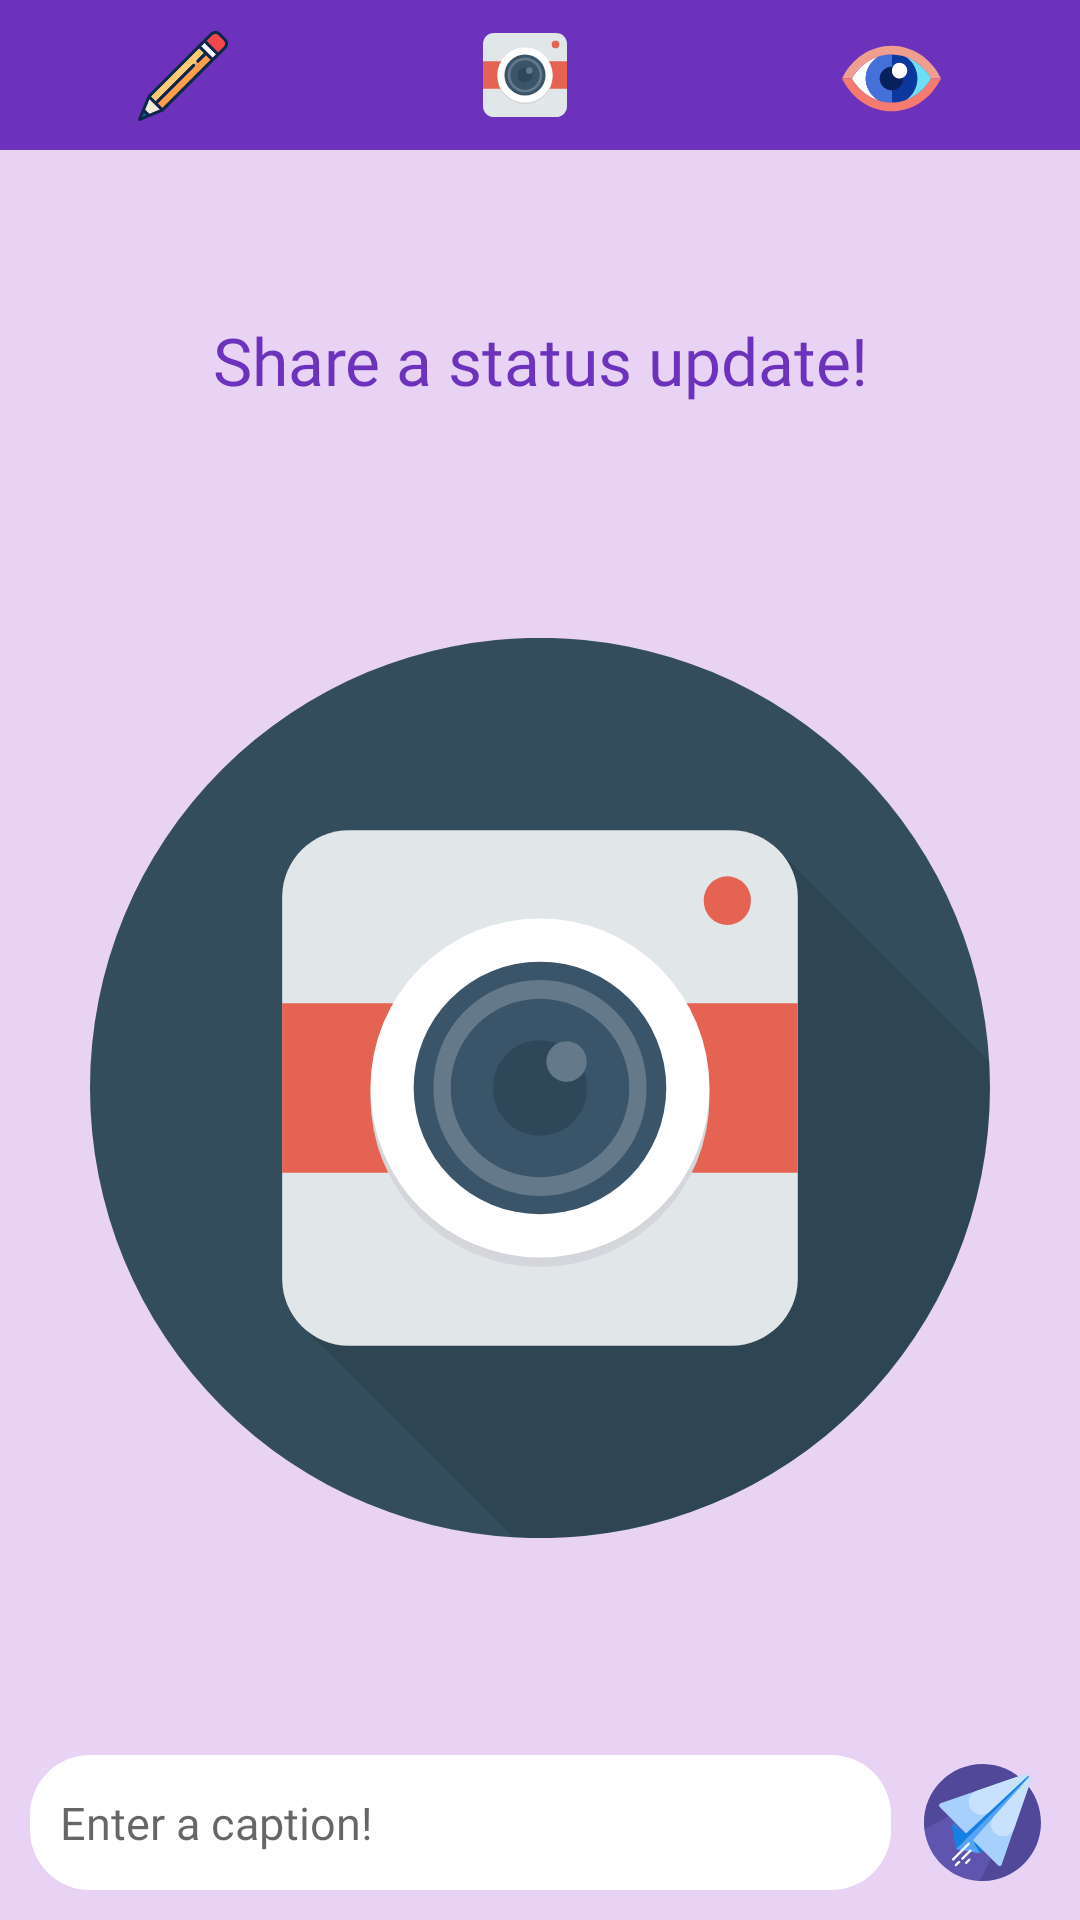

Icon click points for this 1080px×1920px phone screenshot, format point (x, y):
eye: point (891, 78)
paper plane: point (982, 1822)
pencil: point (183, 76)
